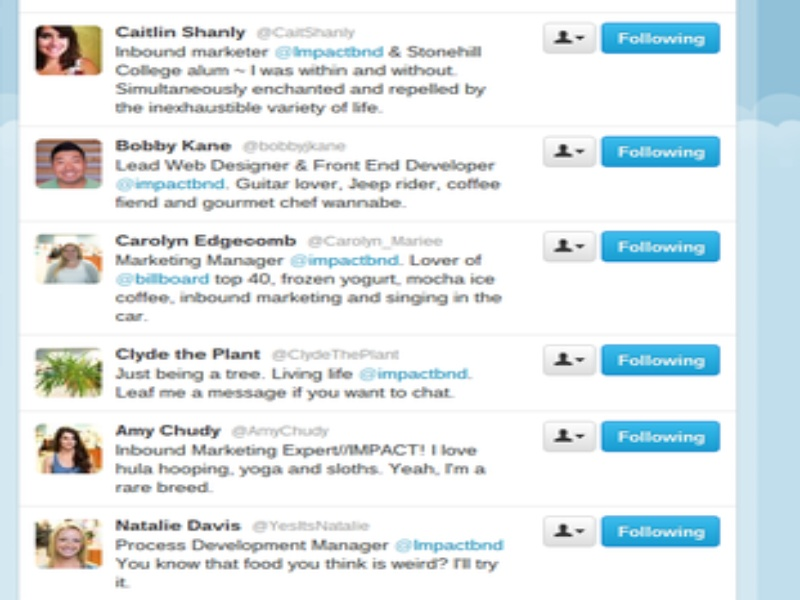follow: (596, 14, 725, 60), (596, 415, 726, 459), (596, 128, 725, 172), (596, 224, 728, 267), (597, 338, 723, 380), (598, 510, 724, 552)
